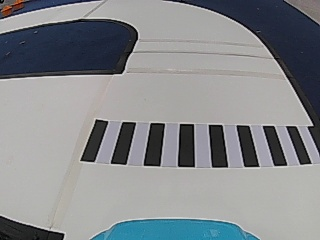CrossWalk: (71, 119, 315, 167)
